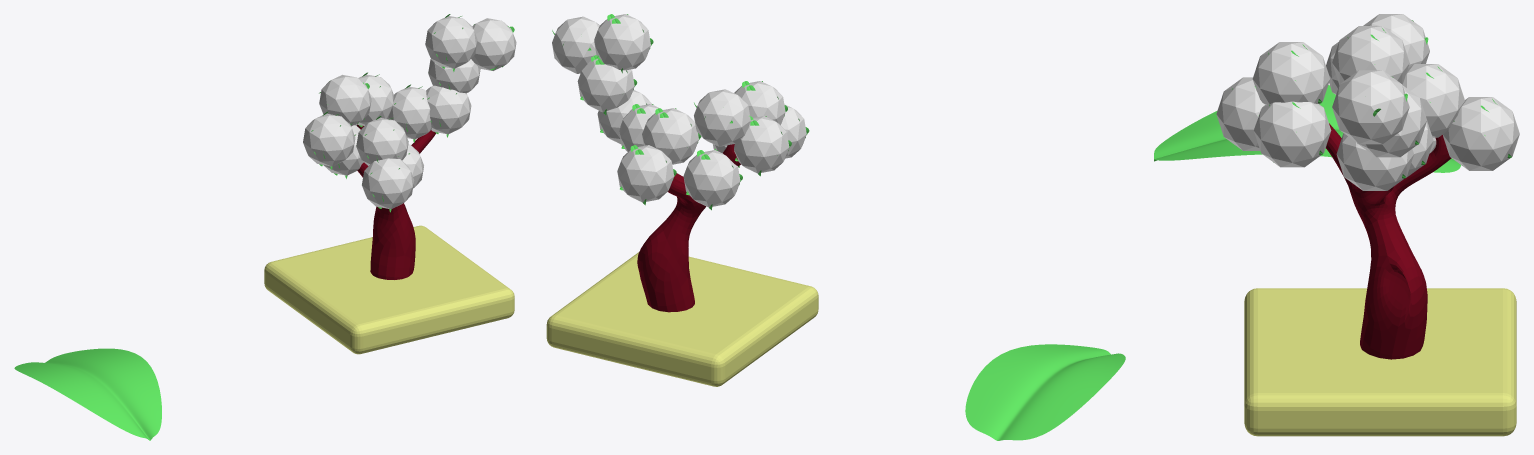
3 views of the same model, side by side, from view 1: azimuth 30°, elevation 25°; view 2: azimuth 150°, elevation 25°; view 3: azimuth 270°, elevation 25° (orthographic). The views are drawn at different scales.
Visible parts, largest first — view 1: Plane, leap, Vert, Icosphere.001, Icosphere.004, Icosphere.007, Icosphere.011, Icosphere.008, Icosphere.003, Icosphere.013, Icosphere.014, Icosphere.002 (+3 smaller); view 2: Plane, leap, Vert, Icosphere.011, Icosphere.005, Icosphere, Icosphere.001, Icosphere.004, Icosphere.006, Icosphere.002, Icosphere.003, Icosphere.008 (+3 smaller); view 3: Plane, Vert, Icosphere.003, Icosphere.005, Icosphere.012, Icosphere.008, leap, Icosphere.001, Icosphere.006, Icosphere.013, Icosphere.007, Icosphere.002 (+3 smaller).
Part boxes in pixels (x1=…): Plane: x1=264, y1=225, x2=514, y2=354; leap: x1=14, y1=348, x2=161, y2=440; Vert: x1=357, y1=124, x2=435, y2=279; Icosphere.001: x1=425, y1=16, x2=477, y2=68; Icosphere.004: x1=303, y1=113, x2=355, y2=166; Icosphere.007: x1=362, y1=158, x2=414, y2=209; Icosphere.011: x1=319, y1=74, x2=371, y2=126; Icosphere.008: x1=356, y1=117, x2=408, y2=165; Icosphere.003: x1=471, y1=18, x2=516, y2=70; Icosphere.013: x1=426, y1=85, x2=471, y2=134; Icosphere.014: x1=387, y1=86, x2=431, y2=139; Icosphere.002: x1=428, y1=59, x2=480, y2=93; Plane: x1=546, y1=252, x2=818, y2=386; leap: x1=965, y1=344, x2=1125, y2=440; Vert: x1=637, y1=144, x2=740, y2=312; Icosphere.011: x1=694, y1=89, x2=750, y2=146; Icosphere.005: x1=617, y1=145, x2=674, y2=202; Icosphere: x1=683, y1=150, x2=740, y2=207; Icosphere.001: x1=594, y1=14, x2=650, y2=70; Icosphere.004: x1=734, y1=116, x2=789, y2=173; Icosphere.006: x1=642, y1=108, x2=698, y2=164; Icosphere.002: x1=577, y1=59, x2=634, y2=112; Icosphere.003: x1=552, y1=16, x2=599, y2=73; Icosphere.008: x1=734, y1=81, x2=785, y2=124; Plane: x1=1244, y1=288, x2=1516, y2=436; Vert: x1=1326, y1=123, x2=1451, y2=359; Icosphere.003: x1=1332, y1=70, x2=1409, y2=144; Icosphere.005: x1=1442, y1=97, x2=1519, y2=170; Icosphere.012: x1=1253, y1=101, x2=1331, y2=167; Icosphere.008: x1=1252, y1=42, x2=1329, y2=104; leap: x1=1154, y1=85, x2=1460, y2=172; Icosphere.001: x1=1332, y1=26, x2=1409, y2=84; Icosphere.006: x1=1402, y1=64, x2=1464, y2=137; Icosphere.013: x1=1336, y1=133, x2=1413, y2=190; Icosphere.007: x1=1216, y1=77, x2=1264, y2=150; Icosphere.002: x1=1357, y1=85, x2=1426, y2=157.
Bounding box in the file's own units: 602 × 324 × 269.
